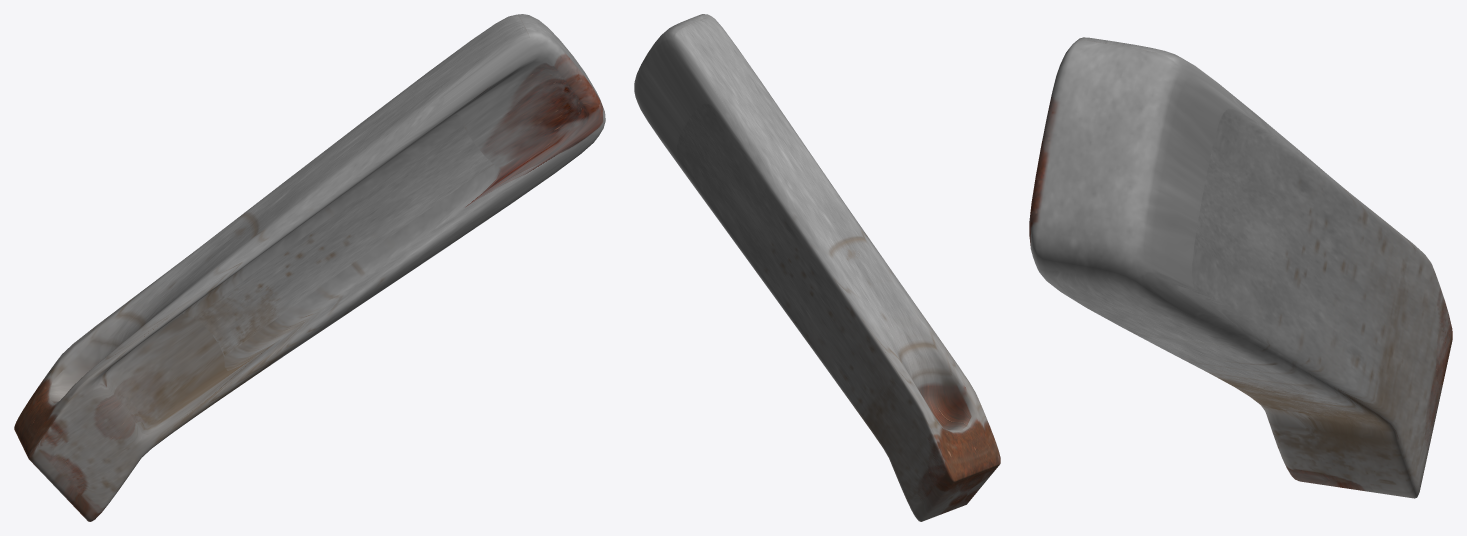
File: perrorobot_musloizq.glb
The picture shows the model from 3 angles, left to right: view 1: azimuth 30°, elevation 25°; view 2: azimuth 150°, elevation 25°; view 3: azimuth 270°, elevation 25°; orthographic projection. The views are drawn at different scales.
Parts seen in each view (by area): view 1: pasted__pCube1_legmetal_0; view 2: pasted__pCube1_legmetal_0; view 3: pasted__pCube1_legmetal_0.
Part boxes in pixels (left/top/right/bottom): pasted__pCube1_legmetal_0: left=14, top=14, right=605, bottom=521; pasted__pCube1_legmetal_0: left=634, top=14, right=1000, bottom=521; pasted__pCube1_legmetal_0: left=1029, top=37, right=1452, bottom=498.
Bounding box in the file's own units: 0.4358 × 0.372 × 0.1915.
1 material, 1 textured.
